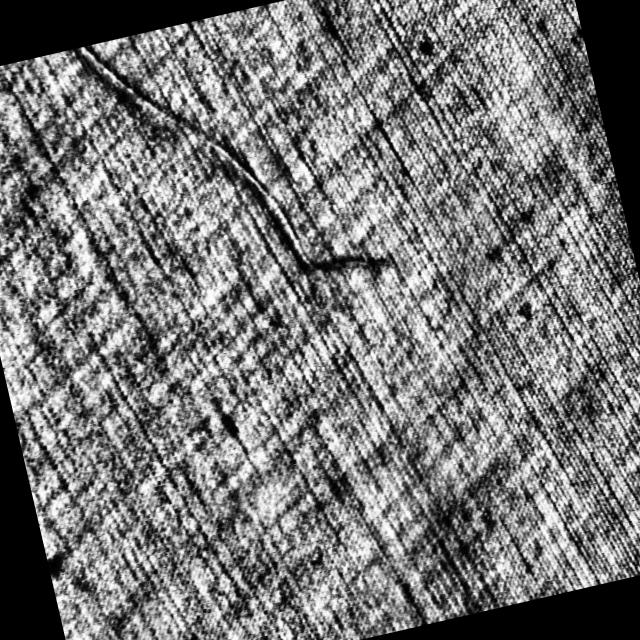gray stitch: (70, 0, 404, 359)
